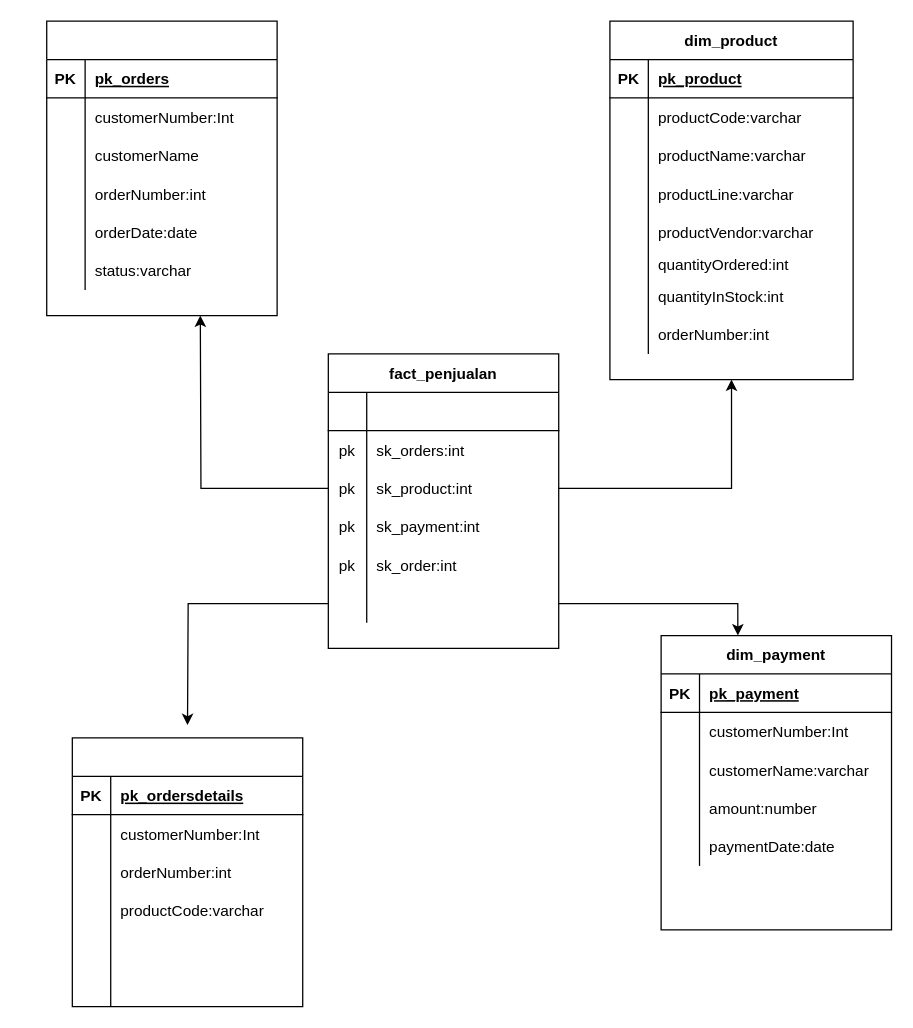
This 913x1028 diagram has some shape labels left out. The shapes that lost their labels are listed below. From the top down, each one's box as (x1, y1, x2, y2) in pixels, then its label:
(45, 20, 277, 316): dim_orders
(71, 737, 303, 1007): dim_ordersdetails
